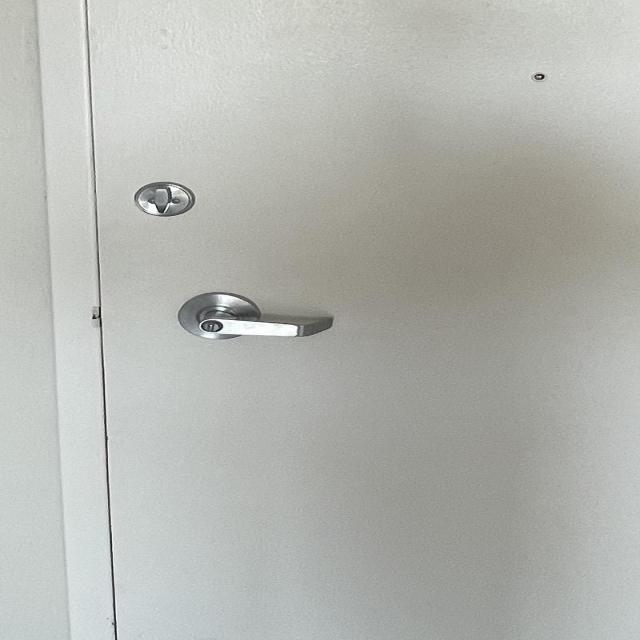door_handle: (172, 303, 352, 348)
